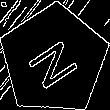N_NE: (23, 29, 85, 90)
